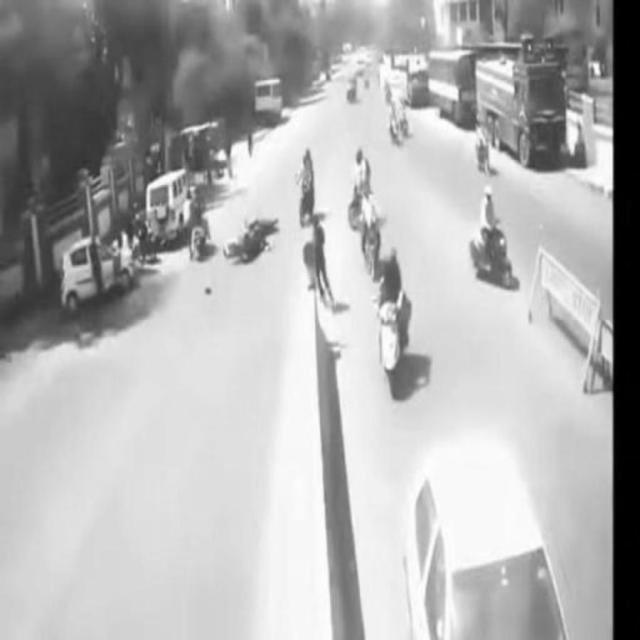vehicle: (405, 444, 571, 639), (478, 59, 571, 153), (375, 248, 413, 386), (64, 241, 134, 308), (470, 188, 517, 286), (144, 170, 196, 240), (295, 145, 319, 226)
